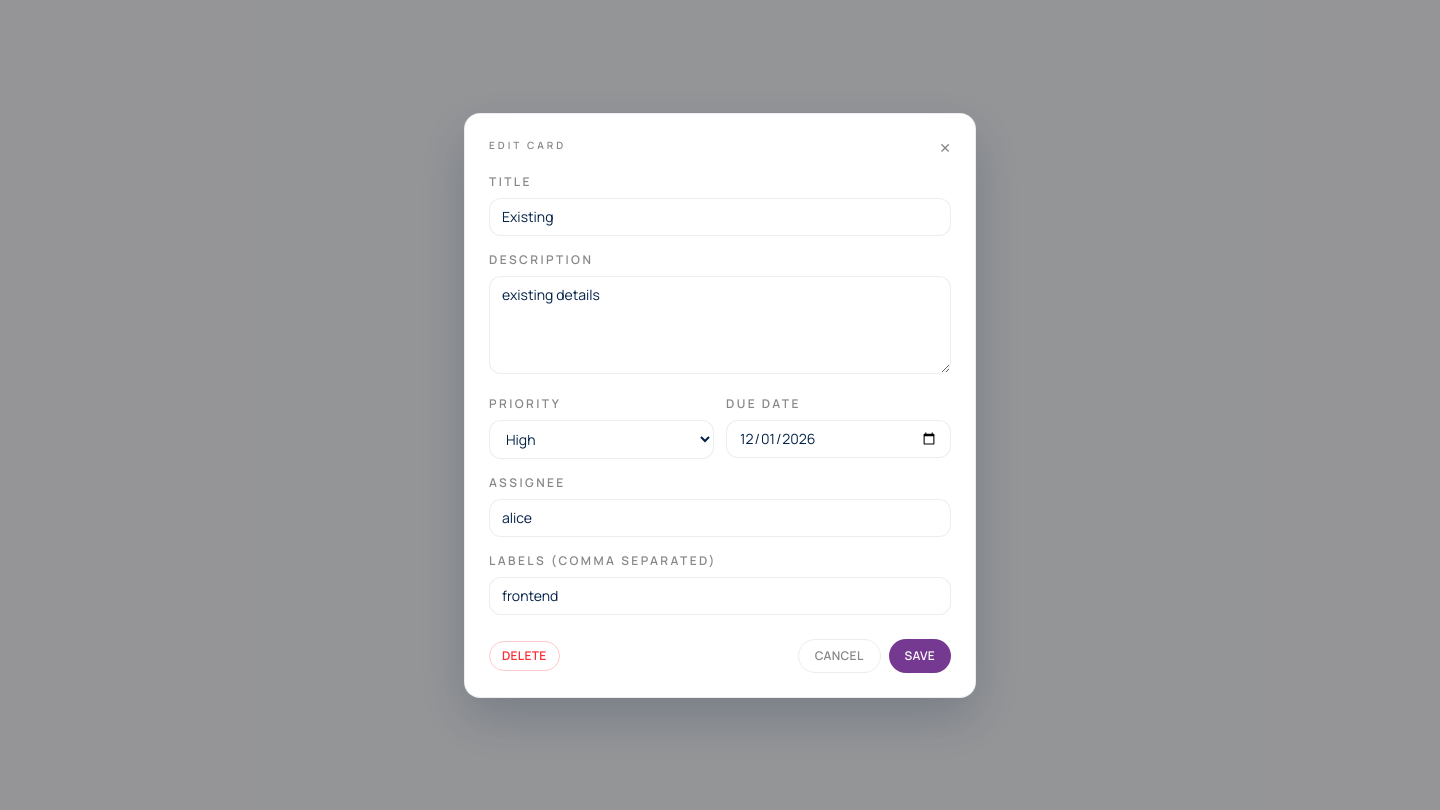
Scenario: CardDetailModal › rejects save with empty title
The image size is (1440, 810).
Clear the field labelled "Title" at (720, 216), box [489,198,951,236]
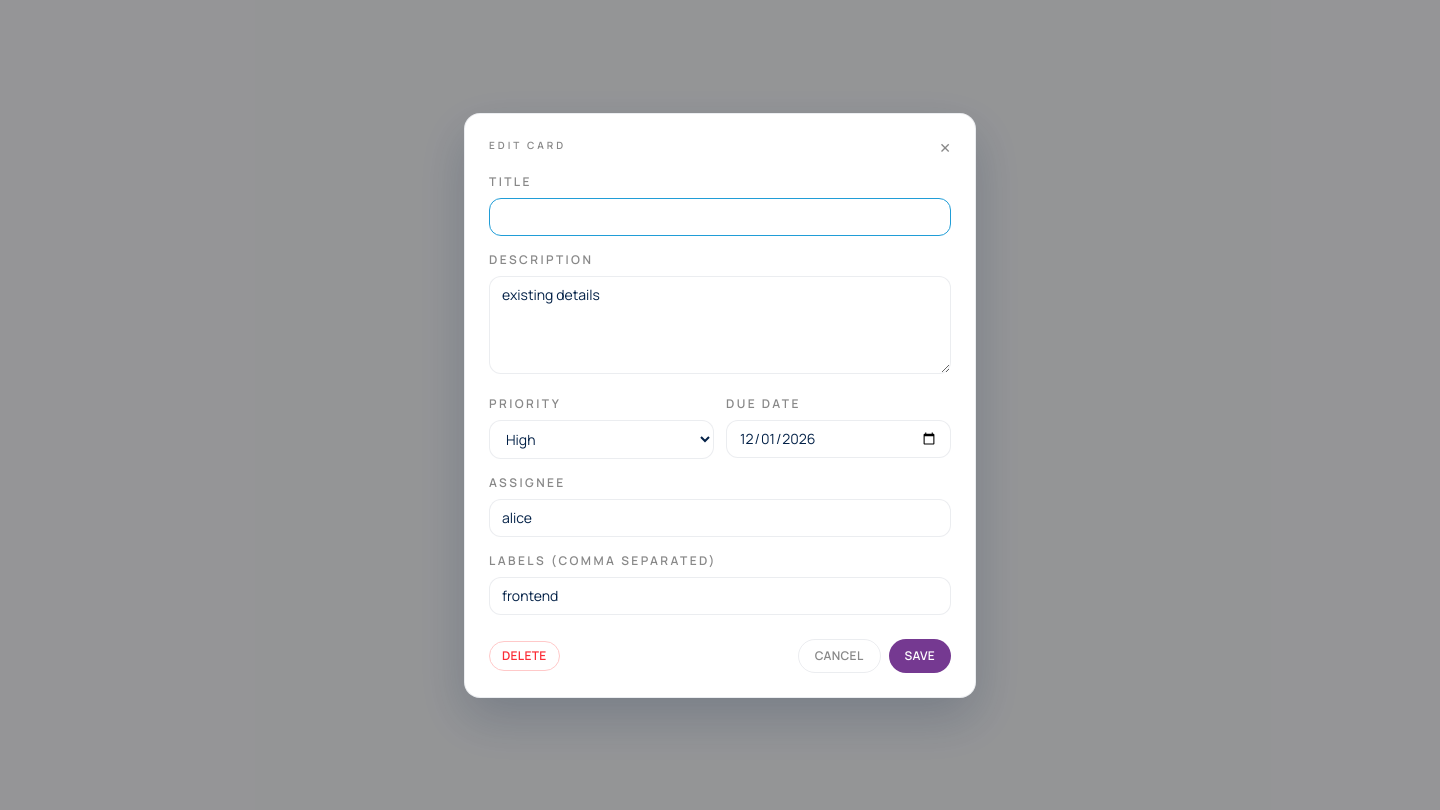
Click the button "Save" at (920, 656), box [888,638,951,672]
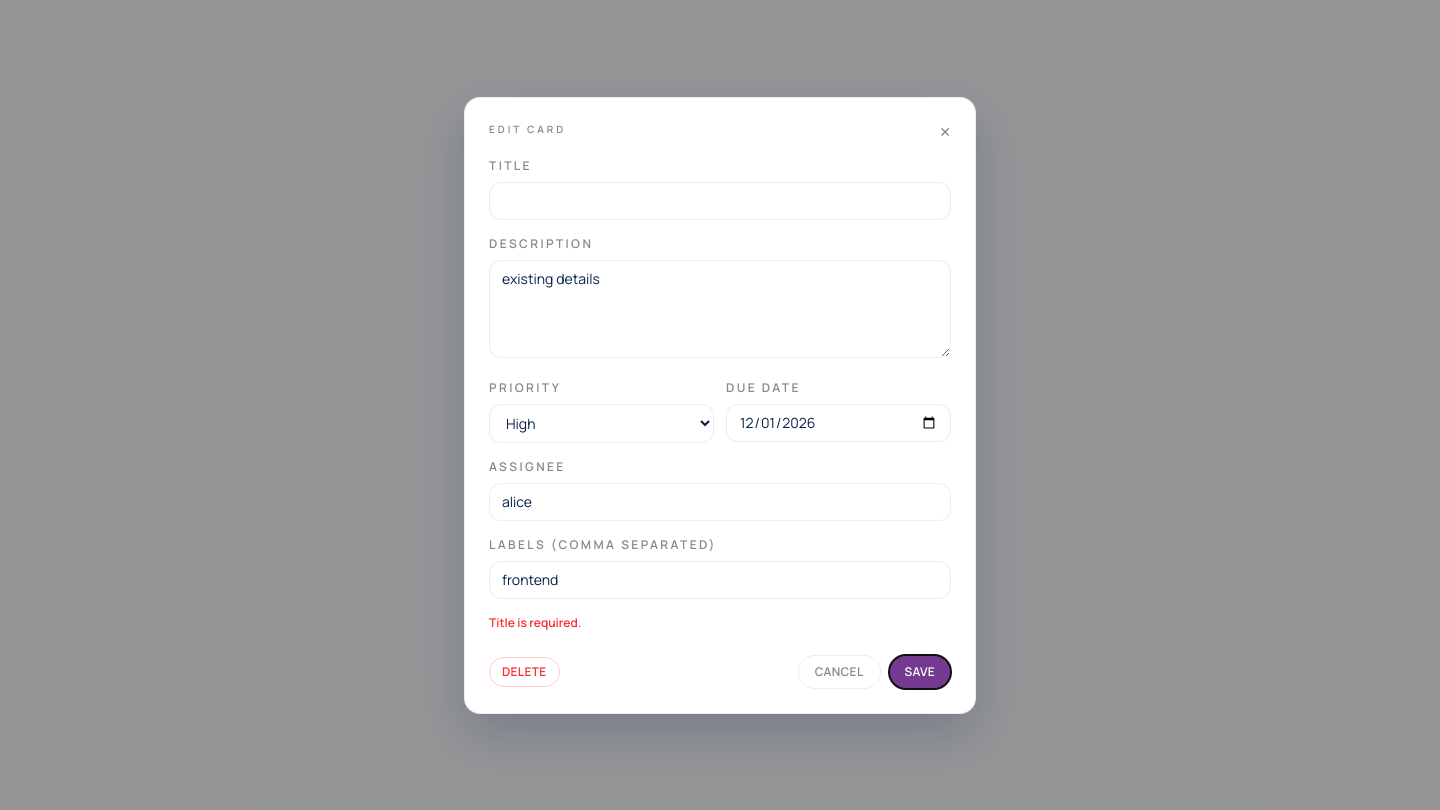
Expected: the message shows "Title is required", [489,614,581,630]
